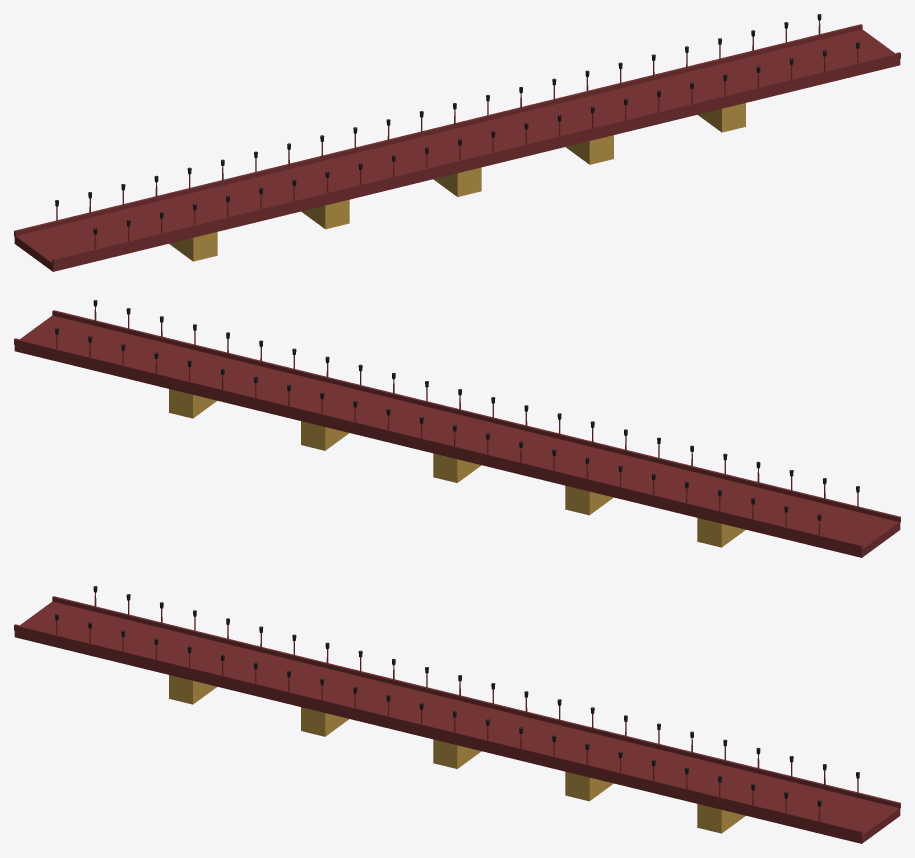
File: blackfriarsbr.glb
The picture shows the model from 3 angles, top to bottom: view 1: azimuth 30°, elevation 25°; view 2: azimuth 150°, elevation 25°; view 3: azimuth 330°, elevation 25°; orthographic projection.
Parts seen in each view (by area): view 1: blackfriarsbr; view 2: blackfriarsbr; view 3: blackfriarsbr.
Boxes of the visible parts, x1,y1,x2,y2 form: blackfriarsbr: [14, 14, 900, 271]; blackfriarsbr: [14, 300, 900, 557]; blackfriarsbr: [14, 586, 900, 843].
Size of the model in its own units: 2.52 by 0.1801 by 0.2082.
